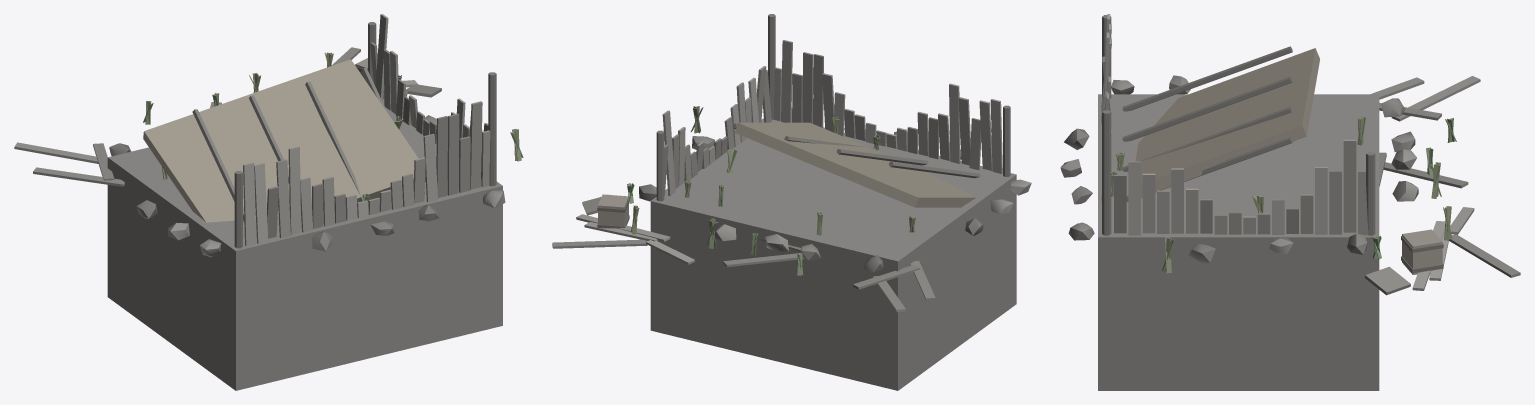
File: gallery_0.gltf
The picture shows the model from 3 angles, left to right: view 1: azimuth 30°, elevation 25°; view 2: azimuth 150°, elevation 25°; view 3: azimuth 270°, elevation 25°; orthographic projection. The views are drawn at different scales.
Visible parts, largest first — view 1: Body; view 2: Body; view 3: Body.
Part boxes in pixels (left/top/right/bottom): Body: left=14, top=14, right=523, bottom=390; Body: left=552, top=14, right=1031, bottom=390; Body: left=1060, top=14, right=1520, bottom=390.
Bounding box in the file's own units: 8.73 × 5.29 × 8.01.
